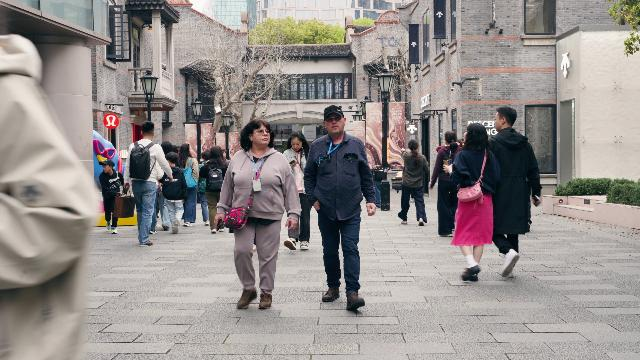person: (303, 105, 377, 311), (213, 110, 286, 307), (442, 122, 502, 282), (488, 106, 542, 278), (122, 121, 174, 246), (281, 130, 312, 250), (428, 130, 462, 237), (398, 138, 429, 226), (162, 152, 188, 234), (99, 158, 125, 234), (177, 143, 199, 227)
